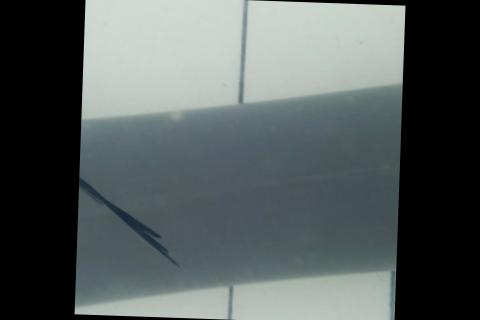keretakan: (76, 155, 186, 269)
